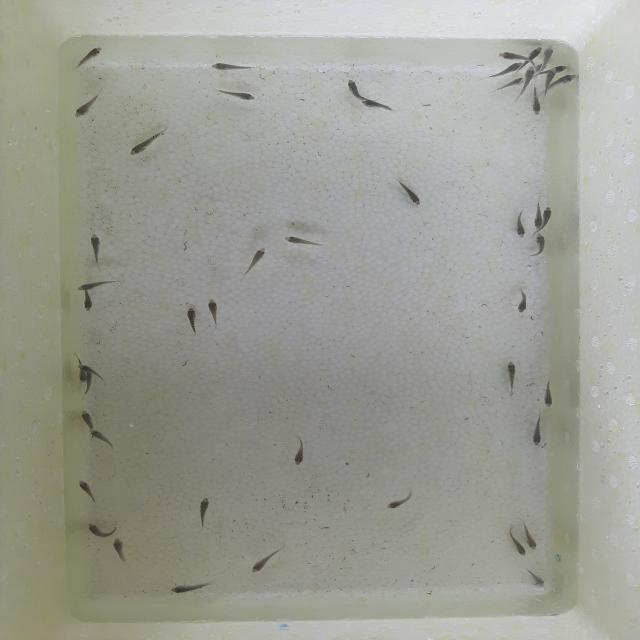fingerling: (127, 129, 170, 158), (248, 544, 284, 576), (72, 44, 105, 75), (239, 246, 268, 280), (395, 178, 427, 208), (87, 230, 110, 271), (71, 93, 103, 121), (278, 234, 326, 251), (528, 410, 548, 448), (108, 538, 132, 568), (168, 581, 219, 595), (205, 296, 224, 332), (383, 492, 417, 512), (208, 61, 256, 74), (504, 361, 520, 399), (343, 78, 367, 103), (85, 519, 115, 539), (507, 532, 530, 558), (183, 302, 200, 337), (76, 478, 98, 505), (510, 211, 530, 240), (195, 495, 212, 529), (215, 88, 258, 101), (523, 567, 548, 589), (74, 279, 113, 293), (290, 438, 308, 468), (530, 233, 550, 260), (540, 379, 557, 410), (88, 428, 112, 449), (513, 288, 531, 316), (360, 99, 396, 112), (494, 62, 524, 76), (522, 64, 536, 93), (527, 528, 542, 551), (531, 87, 542, 116), (78, 411, 96, 426), (558, 74, 579, 86), (496, 50, 521, 60), (82, 294, 94, 314), (524, 45, 544, 57), (544, 66, 557, 84), (544, 44, 556, 61), (75, 362, 92, 373), (541, 206, 557, 217), (531, 220, 545, 231), (557, 63, 573, 72), (77, 375, 88, 383)
